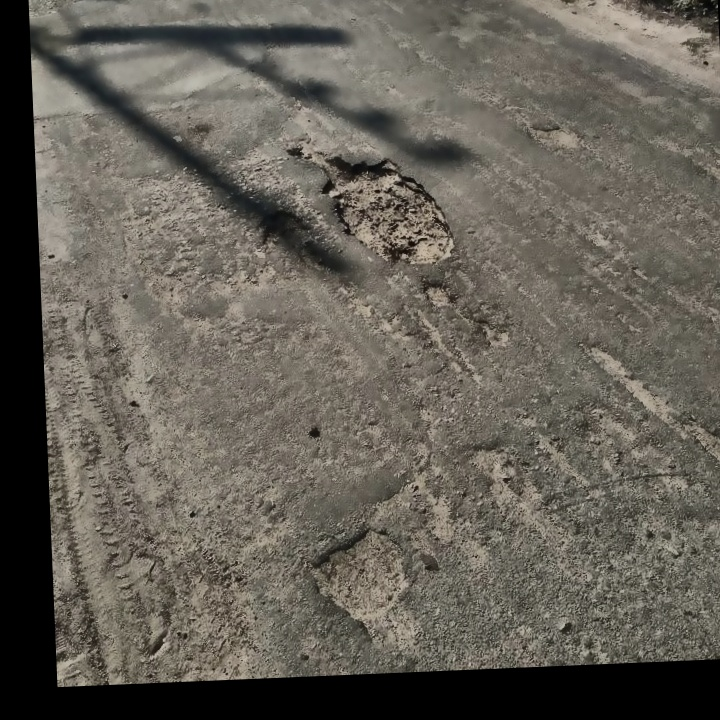pothole: (292, 135, 462, 273), (304, 521, 422, 650), (258, 205, 331, 276), (688, 413, 720, 479), (524, 119, 581, 154)
